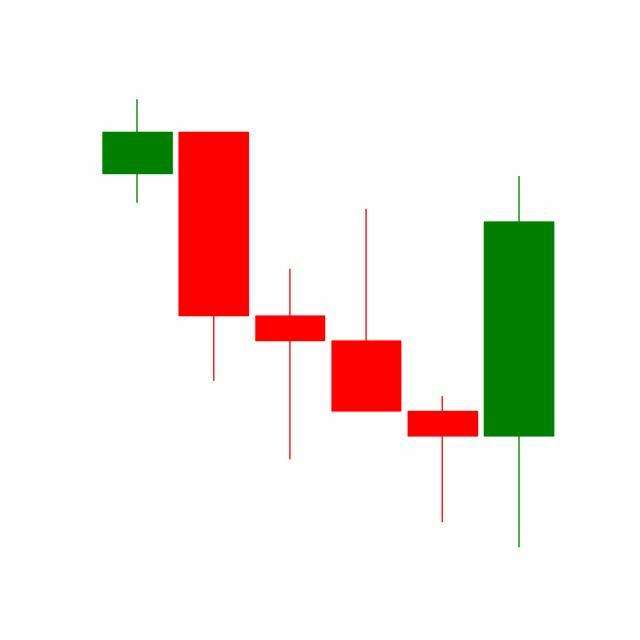Hammer: (404, 395, 482, 525)
